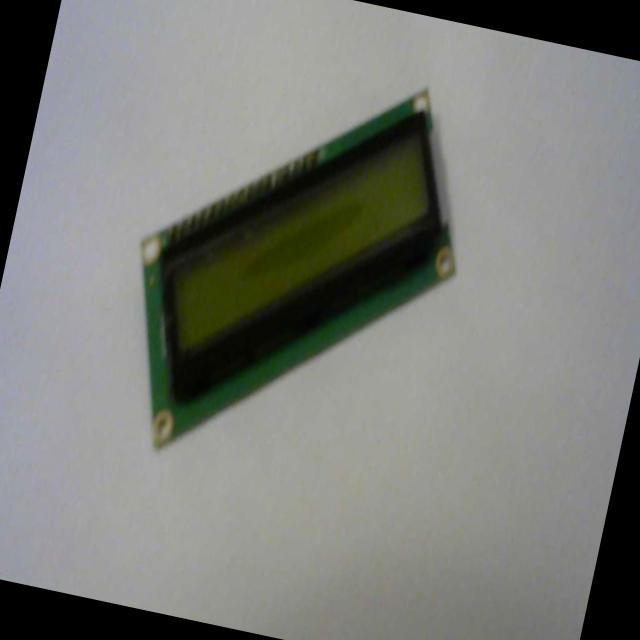lcd: (88, 21, 500, 534)
